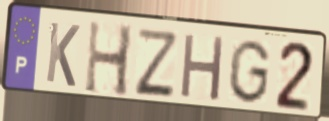2: (274, 39, 317, 114)
G: (225, 38, 273, 107)
H: (82, 18, 136, 100), (178, 31, 227, 104)
K: (43, 19, 82, 90)
Z: (134, 26, 178, 98)
